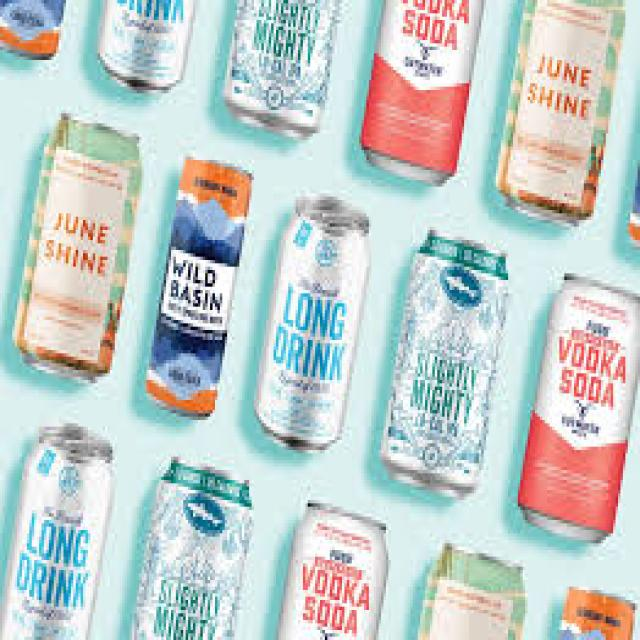Cans: (374, 213, 513, 510), (10, 107, 142, 383), (518, 267, 637, 550), (254, 190, 374, 453), (142, 150, 254, 420)
